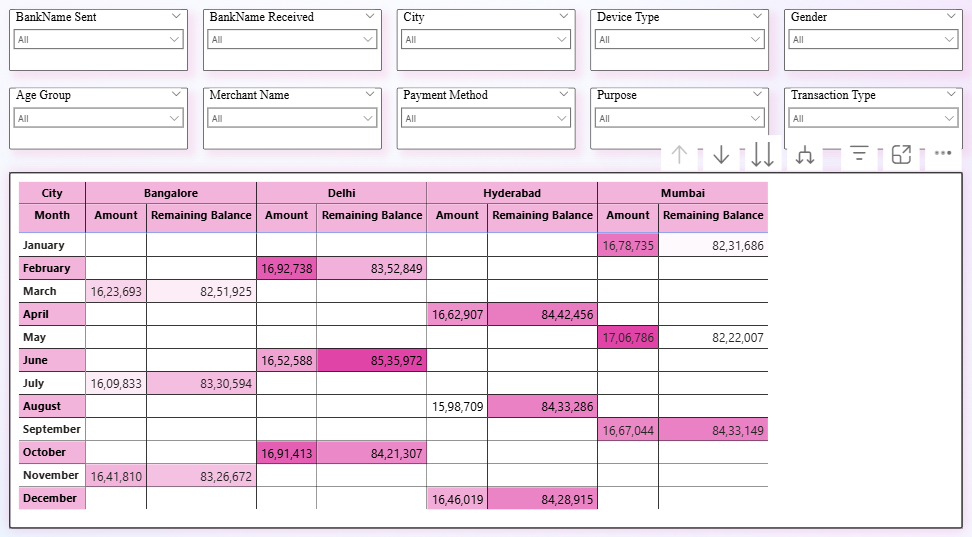

What the dashboard file says about the page in this screenshot:
{"tool":"powerbi","page":{"name":"Table","canvas":[1280,720],"ordinal":1},"visuals":[{"type":"slicer","fields":{"Values":["UPI Transaction.BankNameSent"]},"box":[20,20,232,80],"z":0},{"type":"slicer","fields":{"Values":["UPI Transaction.BankNameReceived"]},"box":[272,20,232,80],"z":1000},{"type":"slicer","fields":{"Values":["UPI Transaction.City"]},"box":[524,20,232,80],"z":2000},{"type":"slicer","fields":{"Values":["UPI Transaction.DeviceType"]},"box":[776,20,232,80],"z":3000},{"type":"slicer","fields":{"Values":["UPI Transaction.Gender"]},"box":[1028,20,232,80],"z":4000},{"type":"slicer","fields":{"Values":["UPI Transaction.Age Group"]},"box":[20,122,232,80],"z":5000},{"type":"slicer","fields":{"Values":["UPI Transaction.MerchantName"]},"box":[272,122,232,80],"z":6000},{"type":"slicer","fields":{"Values":["UPI Transaction.PaymentMethod"]},"box":[524,122,232,80],"z":7000},{"type":"slicer","fields":{"Values":["UPI Transaction.Purpose"]},"box":[776,122,232,80],"z":8000},{"type":"slicer","fields":{"Values":["UPI Transaction.TransactionType"]},"box":[1028,122,232,80],"z":9000},{"type":"pivotTable","fields":{"Values":["Sum(UPI Transaction.Amount)","Sum(UPI Transaction.RemainingBalance)"],"Rows":["UPI Transaction.TransactionDate.Variation.Date Hierarchy.Month"],"Columns":["UPI Transaction.City","UPI Transaction.Currency"]},"box":[20.3,231.4,1240,462.9],"z":9001}]}

Visuals, with their boxes in screenshot pixels (x1, y1, x2, y2), scaled from the page's 1280x720 canvas onto the 972x537 screenshot:
slicer - UPI Transaction.BankNameSent: (left=15, top=15, right=191, bottom=75)
slicer - UPI Transaction.BankNameReceived: (left=207, top=15, right=383, bottom=75)
slicer - UPI Transaction.City: (left=398, top=15, right=574, bottom=75)
slicer - UPI Transaction.DeviceType: (left=589, top=15, right=765, bottom=75)
slicer - UPI Transaction.Gender: (left=781, top=15, right=957, bottom=75)
slicer - UPI Transaction.Age Group: (left=15, top=91, right=191, bottom=151)
slicer - UPI Transaction.MerchantName: (left=207, top=91, right=383, bottom=151)
slicer - UPI Transaction.PaymentMethod: (left=398, top=91, right=574, bottom=151)
slicer - UPI Transaction.Purpose: (left=589, top=91, right=765, bottom=151)
slicer - UPI Transaction.TransactionType: (left=781, top=91, right=957, bottom=151)
pivotTable - Sum(UPI Transaction.Amount) x Sum(UPI Transaction.RemainingBalance): (left=15, top=173, right=957, bottom=518)
